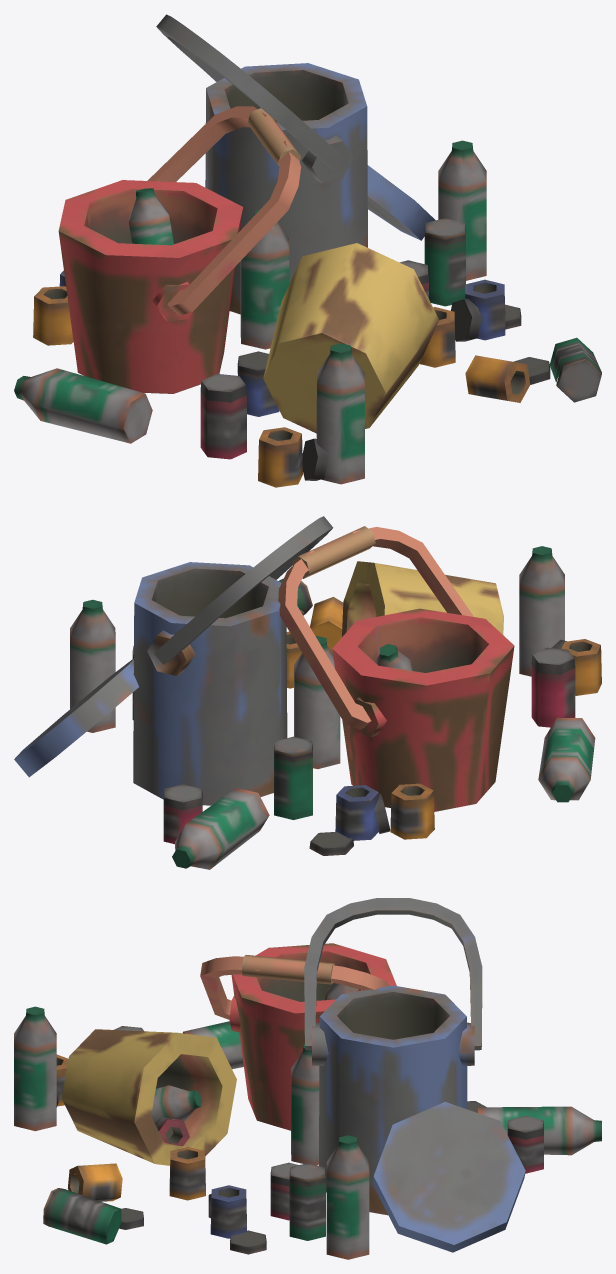
The model's file is Pfb_Garbage__3.fbx.
3 renders of one model, top to bottom at view 1: azimuth 30°, elevation 25°; view 2: azimuth 150°, elevation 25°; view 3: azimuth 270°, elevation 25°, orthographic. The views are drawn at different scales.
Visible parts, largest first — view 1: Mat_Gargabe_01; view 2: Mat_Gargabe_01; view 3: Mat_Gargabe_01.
Part boxes in pixels (x1,y1,x2,y2): Mat_Gargabe_01: (14,14,601,487); Mat_Gargabe_01: (14,516,601,869); Mat_Gargabe_01: (14,898,601,1259).
Bounding box in the file's own units: 1.44 × 0.7781 × 1.65.
1 material, 1 textured.
